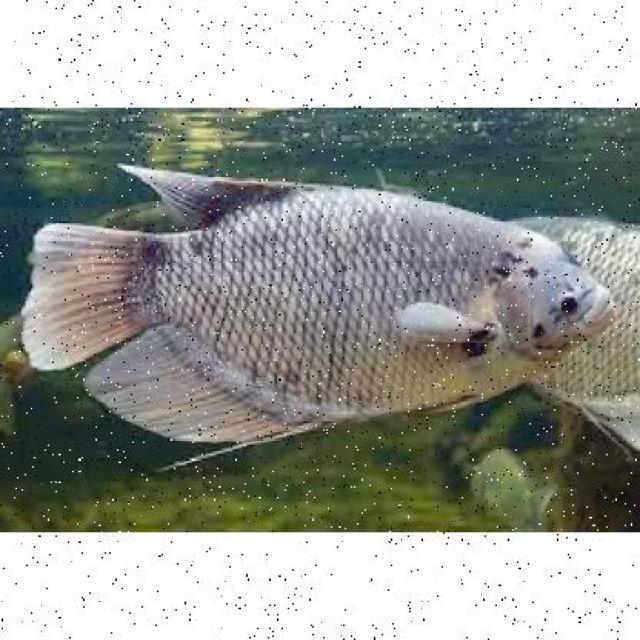gurame: (34, 157, 616, 440)
